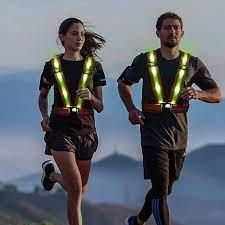Vest: (139, 48, 197, 118), (49, 52, 98, 118)
